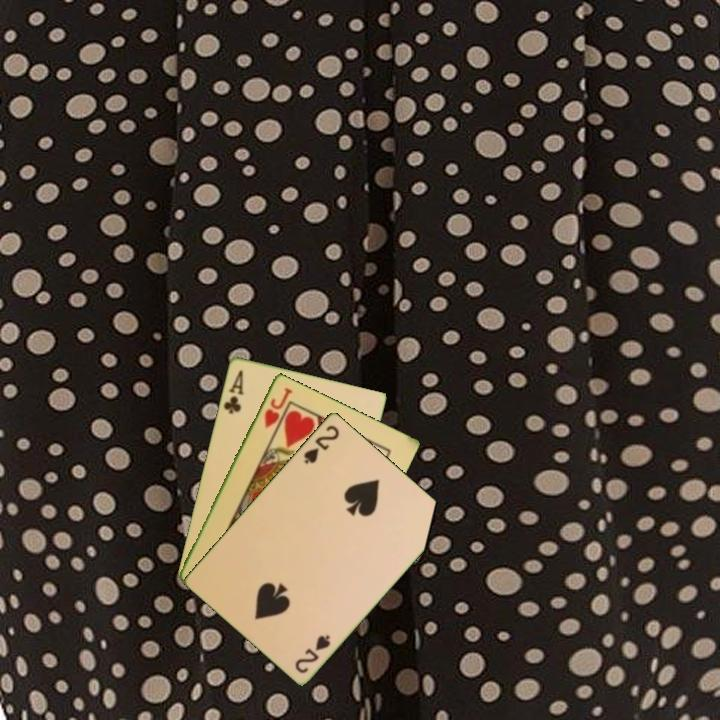2s: (291, 631, 334, 676), (300, 421, 342, 467)
Ac: (220, 366, 246, 417)
Jh: (260, 383, 295, 431)
